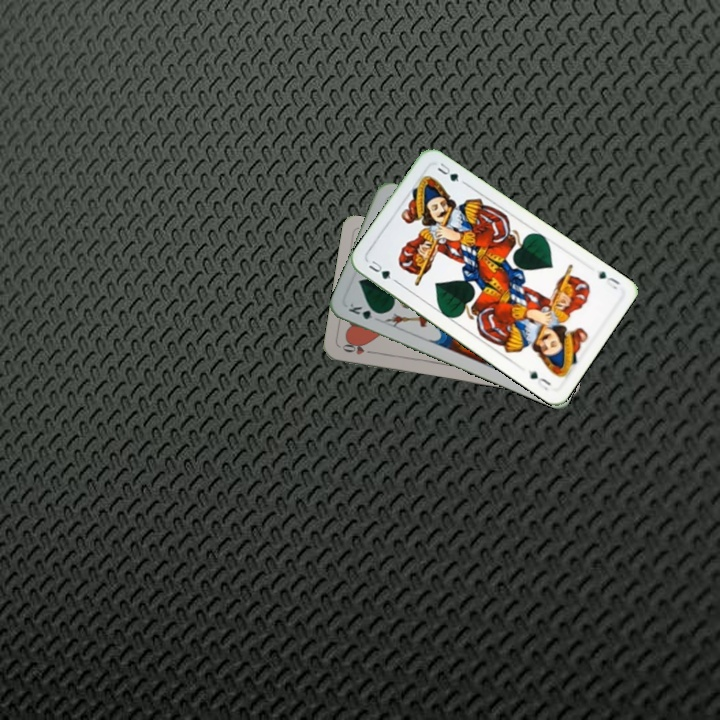GK: (345, 299, 384, 322)
GU: (364, 256, 399, 285), (594, 266, 623, 292)
HO: (338, 339, 378, 357)
